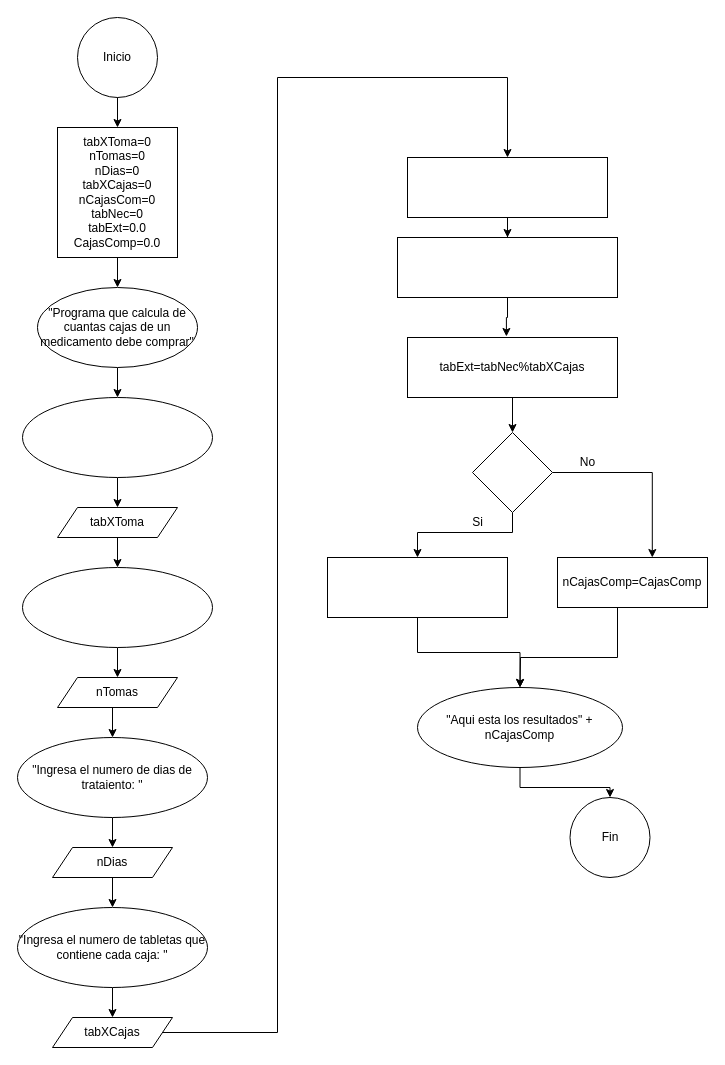
Image size: 725x1065. Some labels were removed from this diagram. The box of each missing label's shape, as (x1, y1, x2, y2) in pixels:
"Ingresa el numero de tabletas que le recetaron en cada toma: ": (22, 396, 212, 478)
"Ingresa el numero de tomas al dia: ": (22, 566, 212, 648)
CajasComp=tabNec/tabXCajas: (396, 236, 618, 298)
nCajasComp=CajasComp+1: (326, 556, 508, 618)
tabExt>0: (472, 432, 552, 512)
tabNec=tabXToma*nTomas*nDias: (406, 156, 608, 218)
